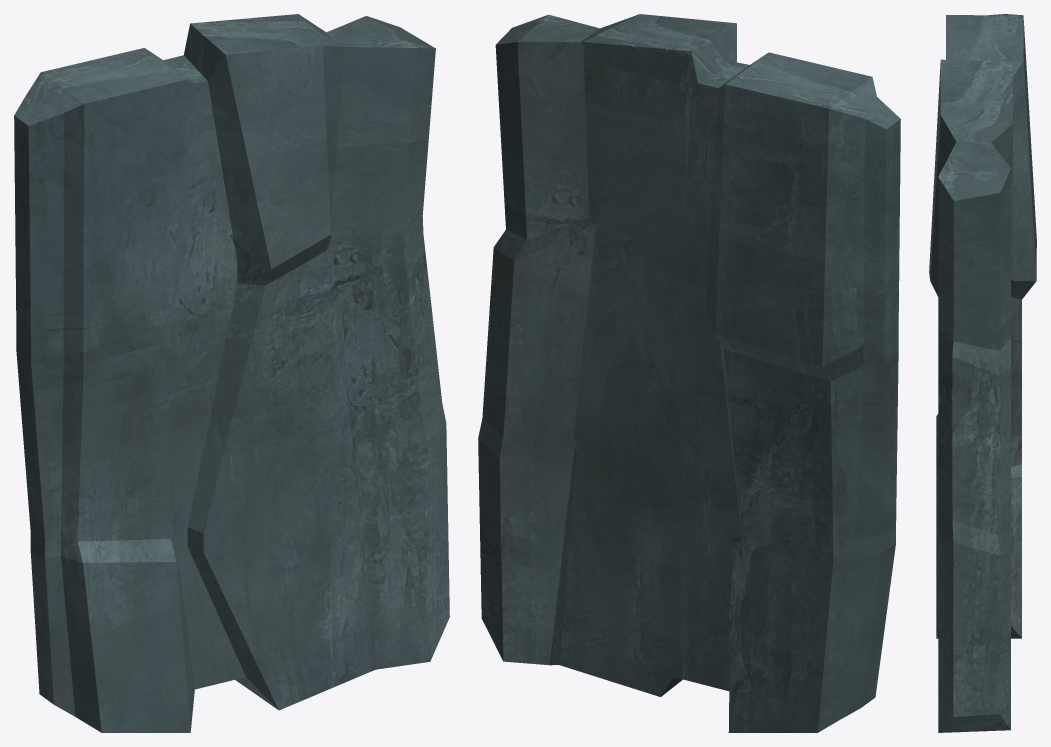
Rendered from RockWall_10.fbx.
3 renders of one model, left to right at view 1: azimuth 30°, elevation 25°; view 2: azimuth 150°, elevation 25°; view 3: azimuth 270°, elevation 25°, orthographic. The views are drawn at different scales.
Visible parts, largest first — view 1: pCube12; view 2: pCube12; view 3: pCube12.
Part boxes in pixels (left/top/right/bottom): pCube12: left=14, top=14, right=449, bottom=732; pCube12: left=478, top=14, right=900, bottom=732; pCube12: left=929, top=14, right=1036, bottom=732.
Bounding box in the file's own units: 9.6 × 14.89 × 2.44.
